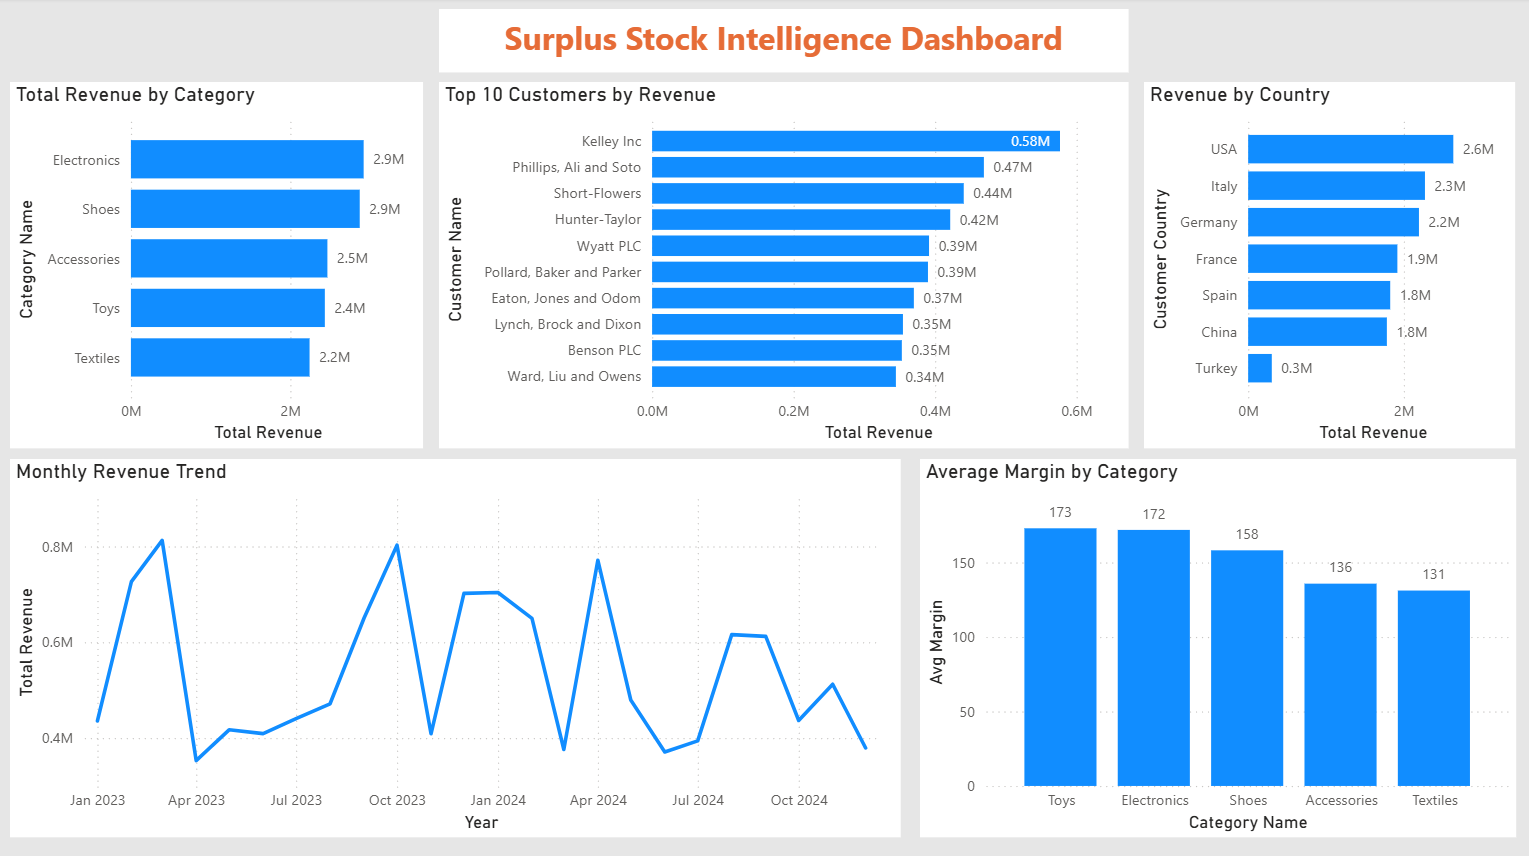

The dashboard page shown, as its layout file describes it:
{"tool":"powerbi","page":{"name":"Page 1","canvas":[1280,720],"ordinal":0},"visuals":[{"type":"clusteredBarChart","title":"Total Revenue by Category","fields":{"Category":["Categories.category_name"],"Y":["Orders.Total Revenue"]},"box":[9.2,70.1,344.8,305.7],"z":0},{"type":"lineChart","title":"Monthly Revenue Trend","fields":{"Y":["Orders.Total Revenue"],"Category":["Orders.date.Variation.Date Hierarchy.Year","Orders.date.Variation.Date Hierarchy.Quarter","Orders.date.Variation.Date Hierarchy.Month"]},"box":[9.2,385.1,743.7,316.1],"z":1},{"type":"clusteredBarChart","title":"Top 10 Customers by Revenue","fields":{"Category":["Customers.customer_name"],"Y":["Orders.Total Revenue"]},"box":[367.8,70.1,575.9,305.7],"z":2},{"type":"clusteredColumnChart","title":"Average Margin by Category","fields":{"Category":["Categories.category_name"],"Y":["Orders.Avg Margin"]},"box":[769,385.1,497.7,316.1],"z":3},{"type":"clusteredBarChart","title":"Revenue by Country","fields":{"Category":["Customers.customer_country"],"Y":["Orders.Total Revenue"]},"box":[956.3,70.1,310.3,305.7],"z":4},{"type":"textbox","box":[367.8,9.2,575.9,52.9],"z":5}]}

Visuals, with their boxes in screenshot pixels (x1, y1, x2, y2), scaled from the page's 1280x720 canvas onto the 1529x856 screenshot:
"Total Revenue by Category" clusteredBarChart: (11,83,423,447)
"Monthly Revenue Trend" lineChart: (11,458,899,834)
"Top 10 Customers by Revenue" clusteredBarChart: (439,83,1127,447)
"Average Margin by Category" clusteredColumnChart: (919,458,1513,834)
"Revenue by Country" clusteredBarChart: (1142,83,1513,447)
textbox: (439,11,1127,74)
